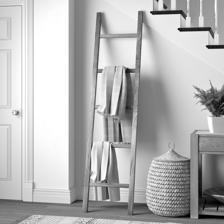Feet: (8, 51, 214, 177)
